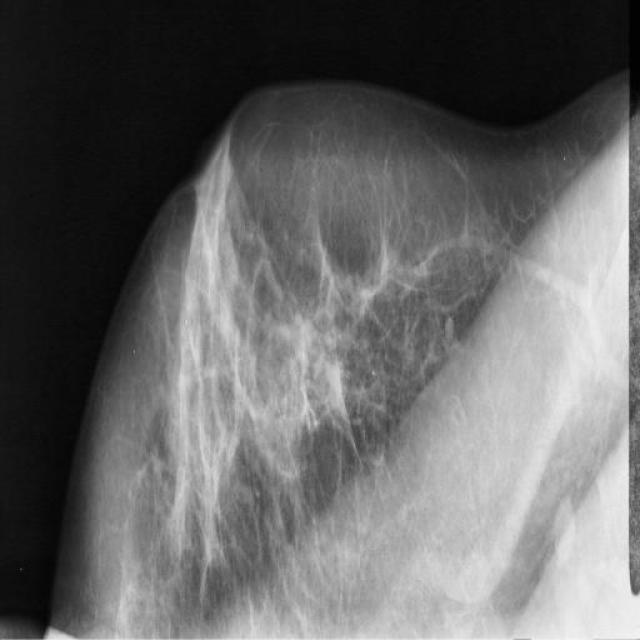cancer: (306, 197, 396, 335)
